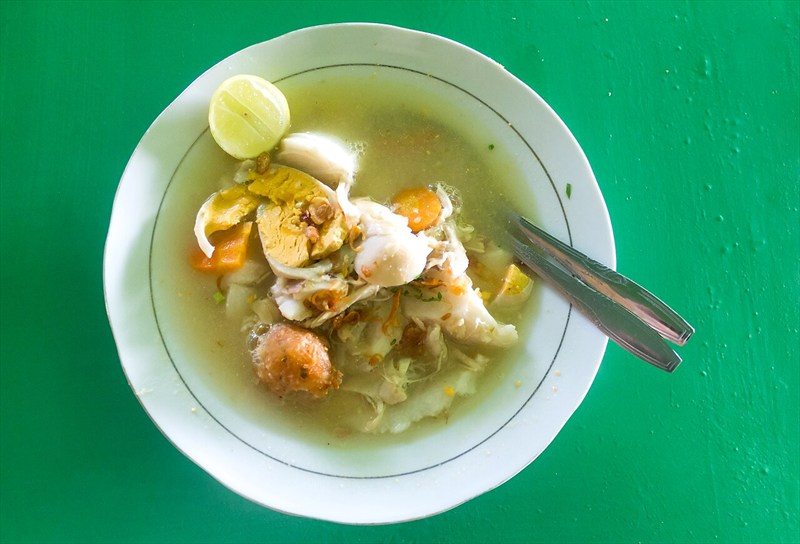Soto Ayam: (107, 94, 613, 491)
